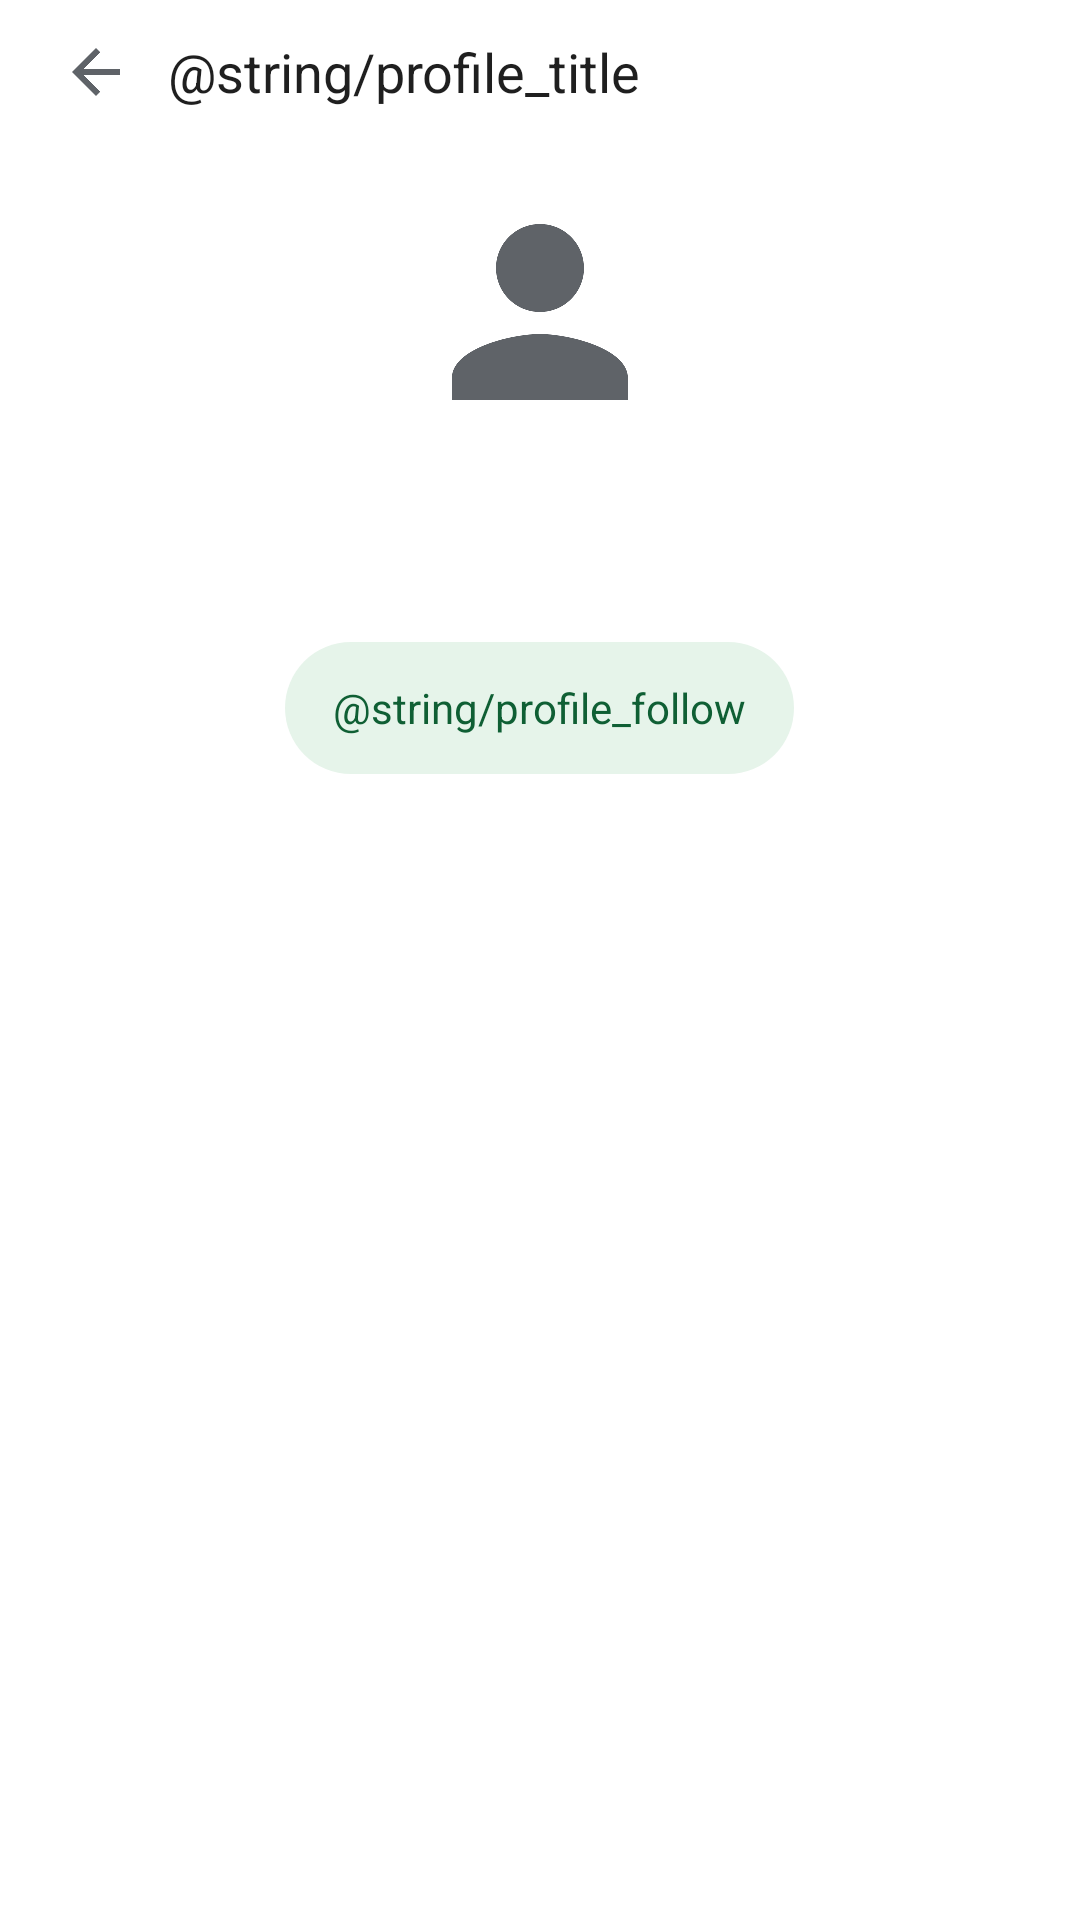

Where to tap for icons on this 1080px x 1920px app screen, as (x,y):
Account photo: (540,312)
Back: (96,72)
